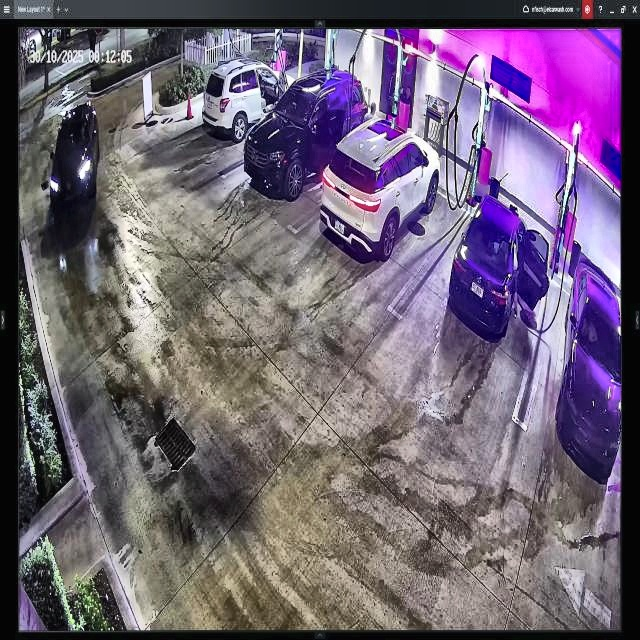Car: (322, 114, 438, 263), (449, 185, 548, 347), (243, 68, 366, 190)
